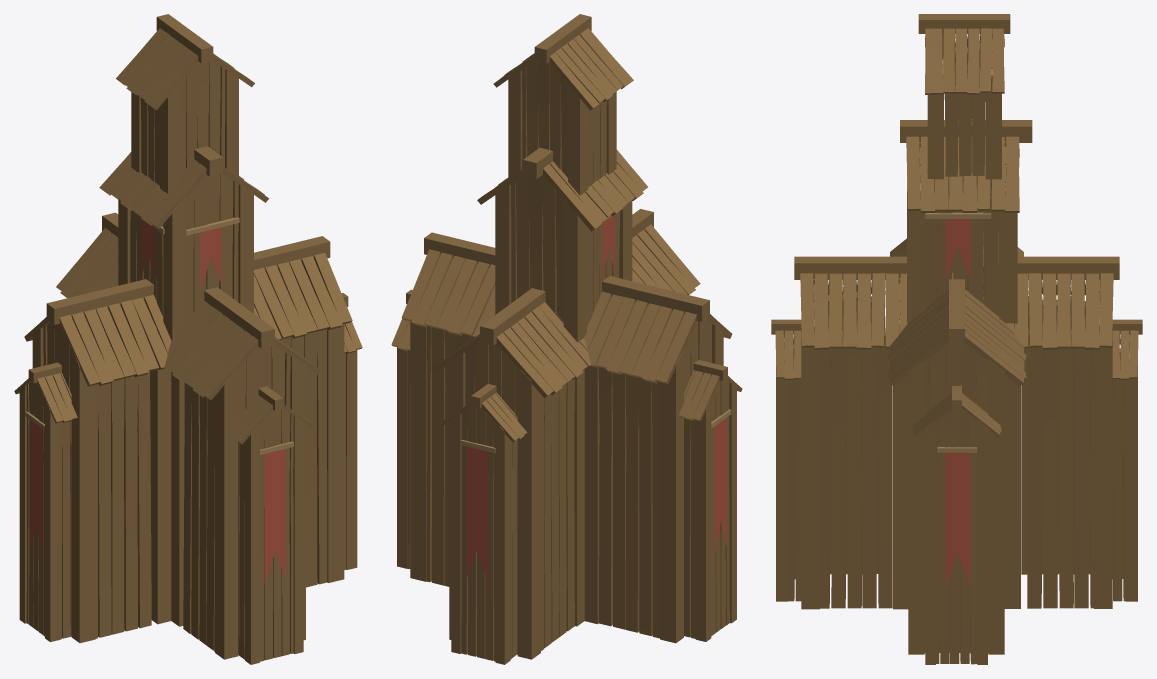
The model's file is Wodden Temple.glb.
3 renders of one model, left to right at view 1: azimuth 30°, elevation 25°; view 2: azimuth 150°, elevation 25°; view 3: azimuth 270°, elevation 25°, orthographic. The views are drawn at different scales.
Visible parts, largest first — view 1: Temple_FirstAge_Level2; view 2: Temple_FirstAge_Level2; view 3: Temple_FirstAge_Level2.
Boxes of the visible parts, x1,y1,x2,y2 form: Temple_FirstAge_Level2: [14, 14, 362, 664]; Temple_FirstAge_Level2: [391, 14, 742, 664]; Temple_FirstAge_Level2: [771, 14, 1142, 664].
Size of the model in its own units: 1.81 by 3.08 by 1.81.
